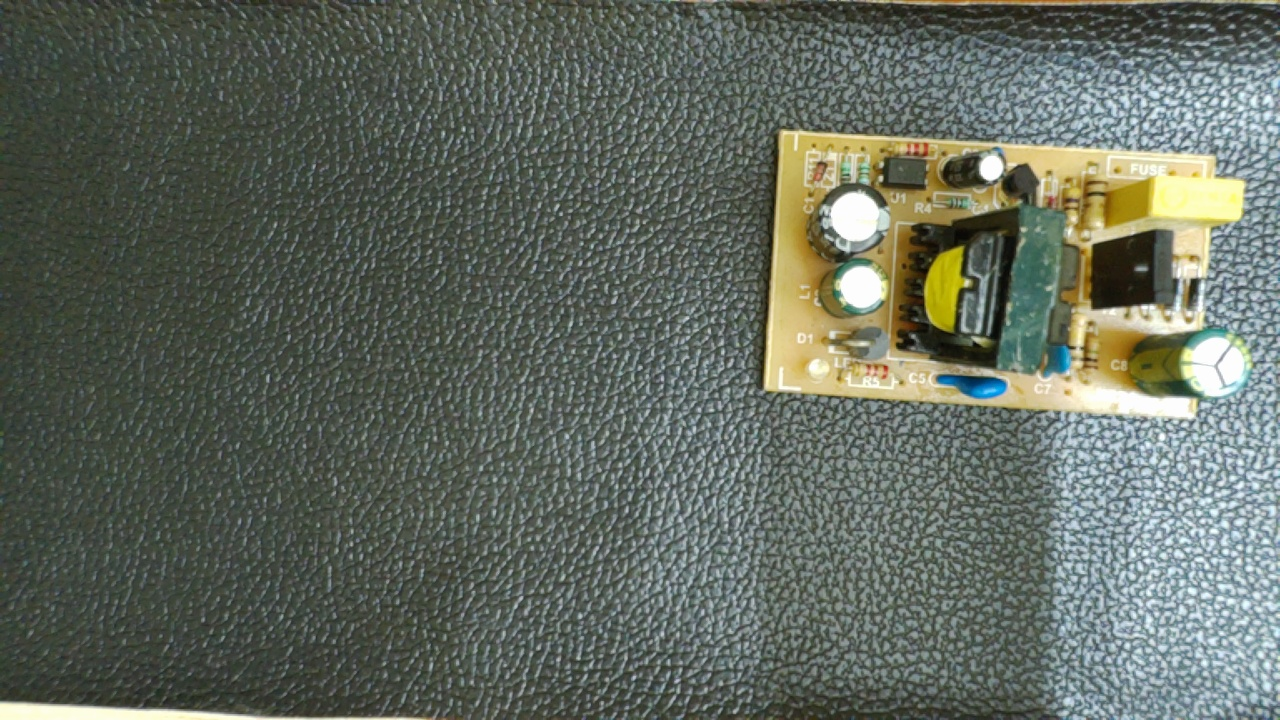hv_capacitor: (1130, 323, 1250, 402)
mov: (930, 365, 1010, 401)
optocoupler: (873, 152, 932, 192)
